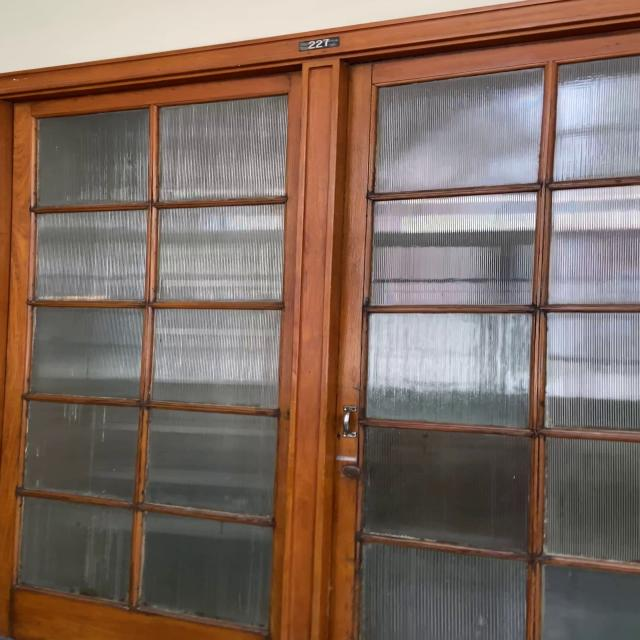room227: (296, 35, 342, 52)
